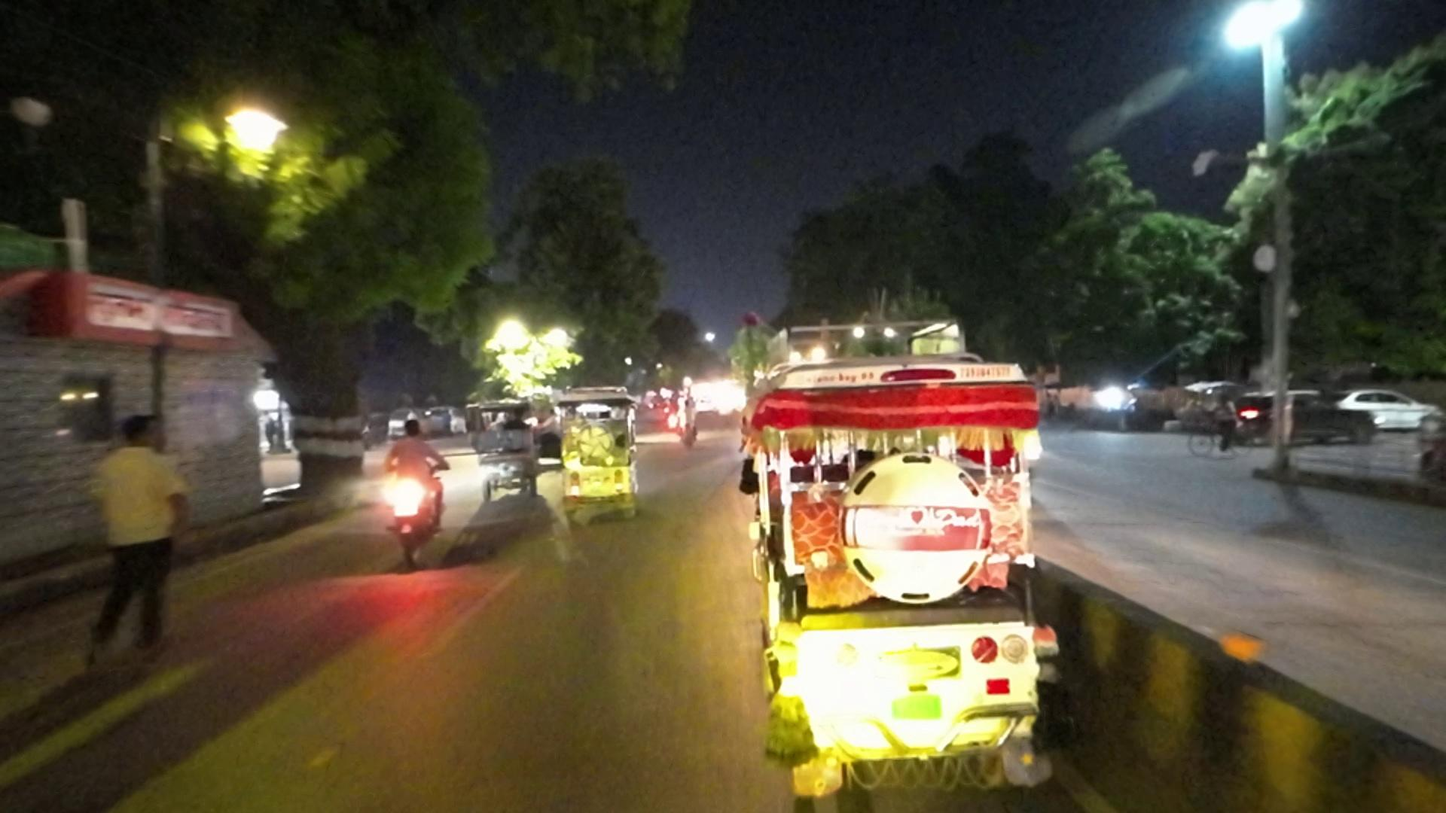streetlight: (11, 89, 59, 139)
